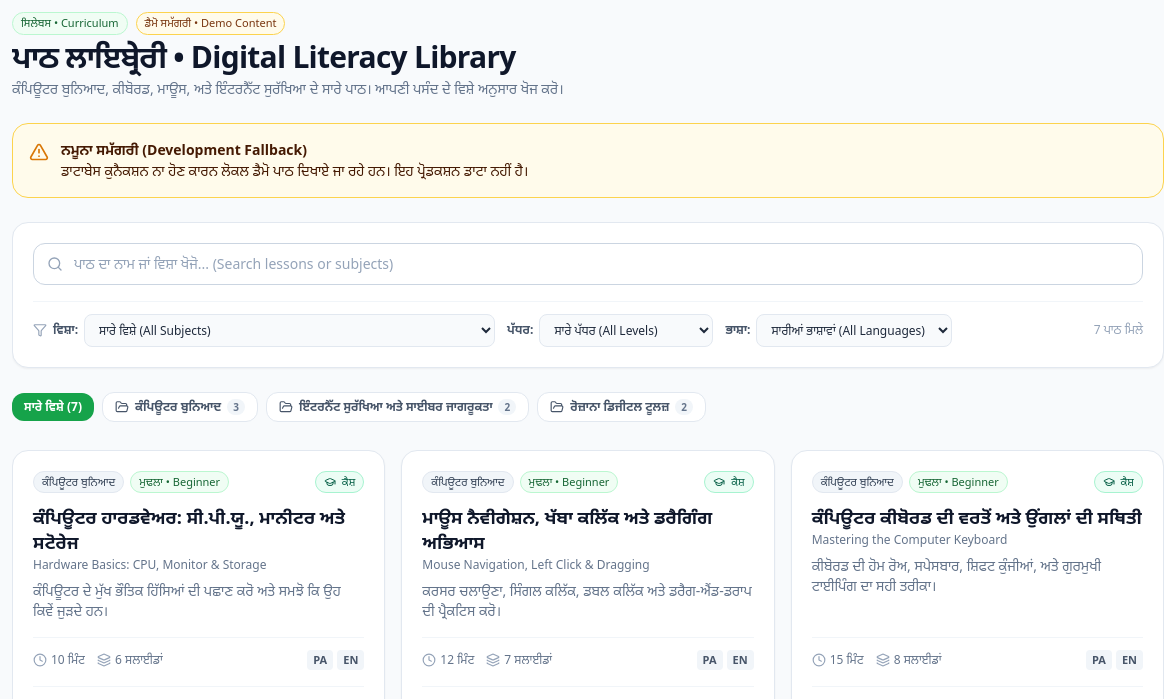
LessonsPage Component (Lesson Library) › filters lessons by difficulty selector
Check: the heading "ਕੰਪਿਊਟਰ ਹਾਰਡਵੇਅਰ: ਸੀ.ਪੀ.ਯੂ., ਮਾਨੀਟਰ ਅਤੇ ਸਟੋਰੇਜ" is shown, box x1=33 y1=505 x2=364 y2=555
Select "ਉੱਚ ਪੱਧਰੀ (Advanced)" in the dropdown named "ਮੁਸ਼ਕਿਲ ਪੱਧਰ ਚੁਣੋ" at (626, 330), box x1=539 y1=314 x2=713 y2=347
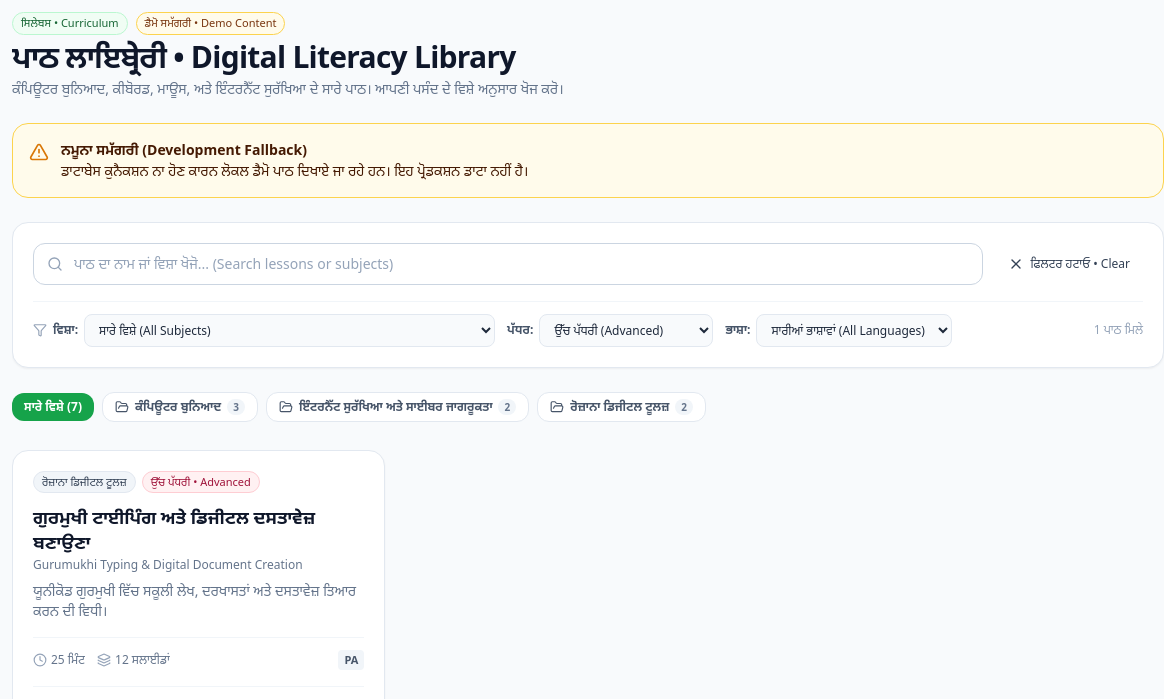
Check: the heading "ਗੁਰਮੁਖੀ ਟਾਈਪਿੰਗ ਅਤੇ ਡਿਜੀਟਲ ਦਸਤਾਵੇਜ਼ ਬਣਾਉਣਾ" is shown, box x1=33 y1=505 x2=364 y2=555
Check: the heading "ਕੰਪਿਊਟਰ ਹਾਰਡਵੇਅਰ: ਸੀ.ਪੀ.ਯੂ., ਮਾਨੀਟਰ ਅਤੇ ਸਟੋਰੇਜ" is gone
